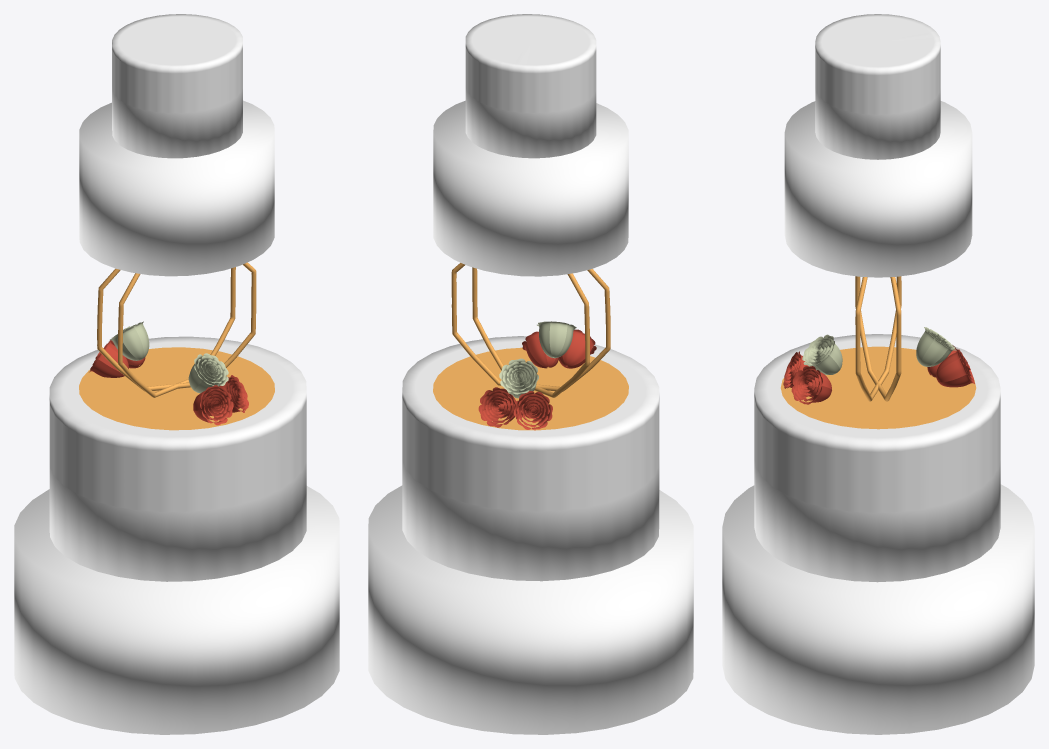
Rendered from cake.glb.
3 renders of one model, left to right at view 1: azimuth 30°, elevation 25°; view 2: azimuth 150°, elevation 25°; view 3: azimuth 270°, elevation 25°, orthographic.
Visible parts, largest first — view 1: Bot, MidBot, MidTop, Top, Separator, Flower Bud.002, Flower Bud.005, Flower Bud.008, Flower Bud.006, Flower Bud.001; view 2: Bot, MidBot, MidTop, Top, Separator, Flower Bud.007, Flower Bud.006, Flower Bud.008, Flower Bud.005, Flower Bud.002, Flower Bud.001; view 3: Bot, MidBot, MidTop, Top, Separator, Flower Bud.001, Flower Bud.005, Flower Bud.008, Flower Bud.007.
Boxes of the visible parts, box(x1,y1,x2,y2) form: Bot: box(14, 486, 339, 734); MidBot: box(49, 336, 306, 581); MidTop: box(79, 100, 274, 276); Top: box(112, 14, 242, 158); Separator: box(79, 262, 274, 430); Flower Bud.002: box(193, 385, 233, 425); Flower Bud.005: box(188, 353, 228, 393); Flower Bud.008: box(110, 321, 149, 360); Flower Bud.006: box(89, 340, 128, 377); Flower Bud.001: box(219, 375, 248, 412); Bot: box(368, 485, 693, 734); MidBot: box(402, 336, 659, 581); MidTop: box(433, 100, 628, 276); Top: box(465, 14, 596, 158); Separator: box(433, 263, 628, 430); Flower Bud.007: box(478, 387, 517, 427); Flower Bud.006: box(513, 391, 552, 430); Flower Bud.008: box(499, 358, 538, 398); Flower Bud.005: box(537, 321, 576, 358); Flower Bud.002: box(558, 329, 596, 368); Flower Bud.001: box(522, 331, 558, 368); Bot: box(722, 484, 1034, 734); MidBot: box(754, 334, 1000, 582); MidTop: box(784, 101, 972, 277); Top: box(815, 14, 940, 159); Separator: box(780, 276, 976, 429); Flower Bud.001: box(791, 366, 831, 404); Flower Bud.005: box(802, 334, 842, 374); Flower Bud.008: box(916, 327, 956, 366); Flower Bud.007: box(936, 349, 974, 387).
Size of the model in its own units: 1.34 by 2.81 by 1.28.
